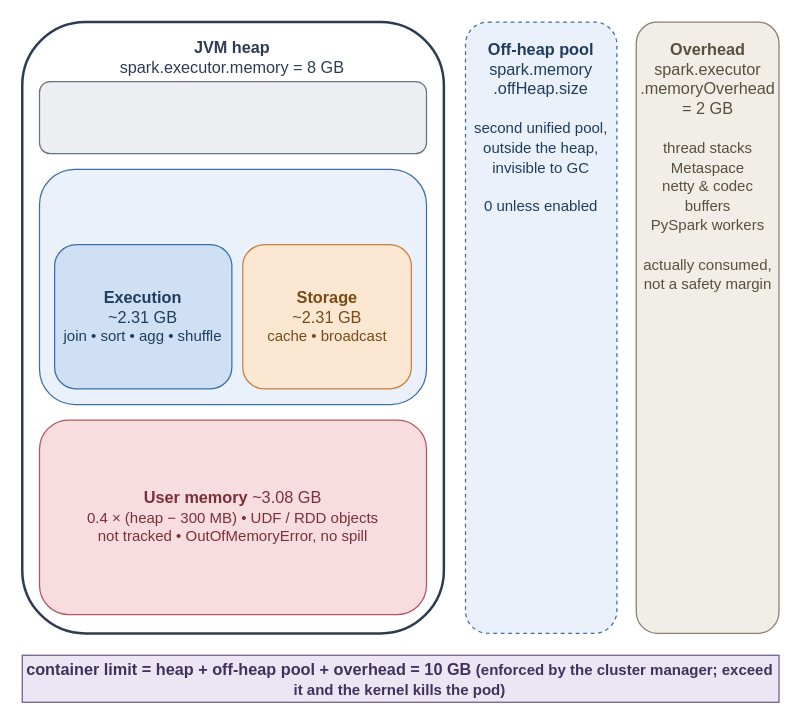
Some shapes in this 801 by 725 pixel diagram are drawn without their labels. Here are the shapes that lost their labels. From the top down, the box of each, then its label:
(38, 80, 427, 154): Reserved 300 MB fixed • never usable by a query
(38, 168, 427, 404): Unified memory ~4.62 GB 0.6 × (heap − 300 MB) • spills to disk
